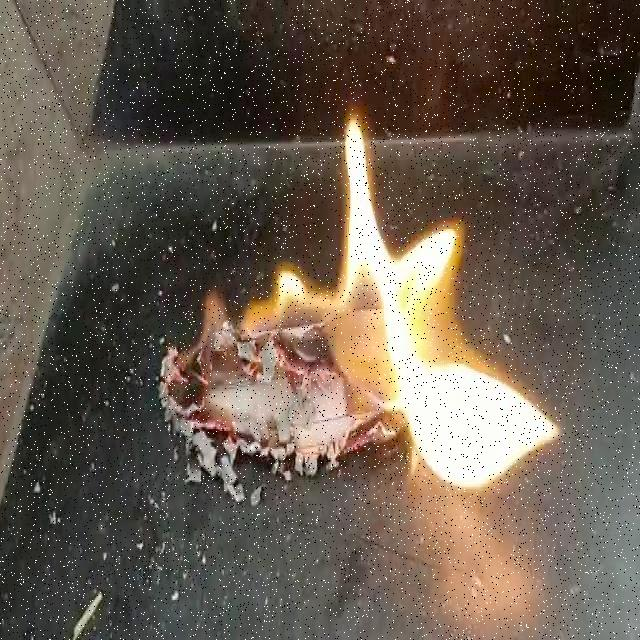fire: (252, 112, 568, 513)
